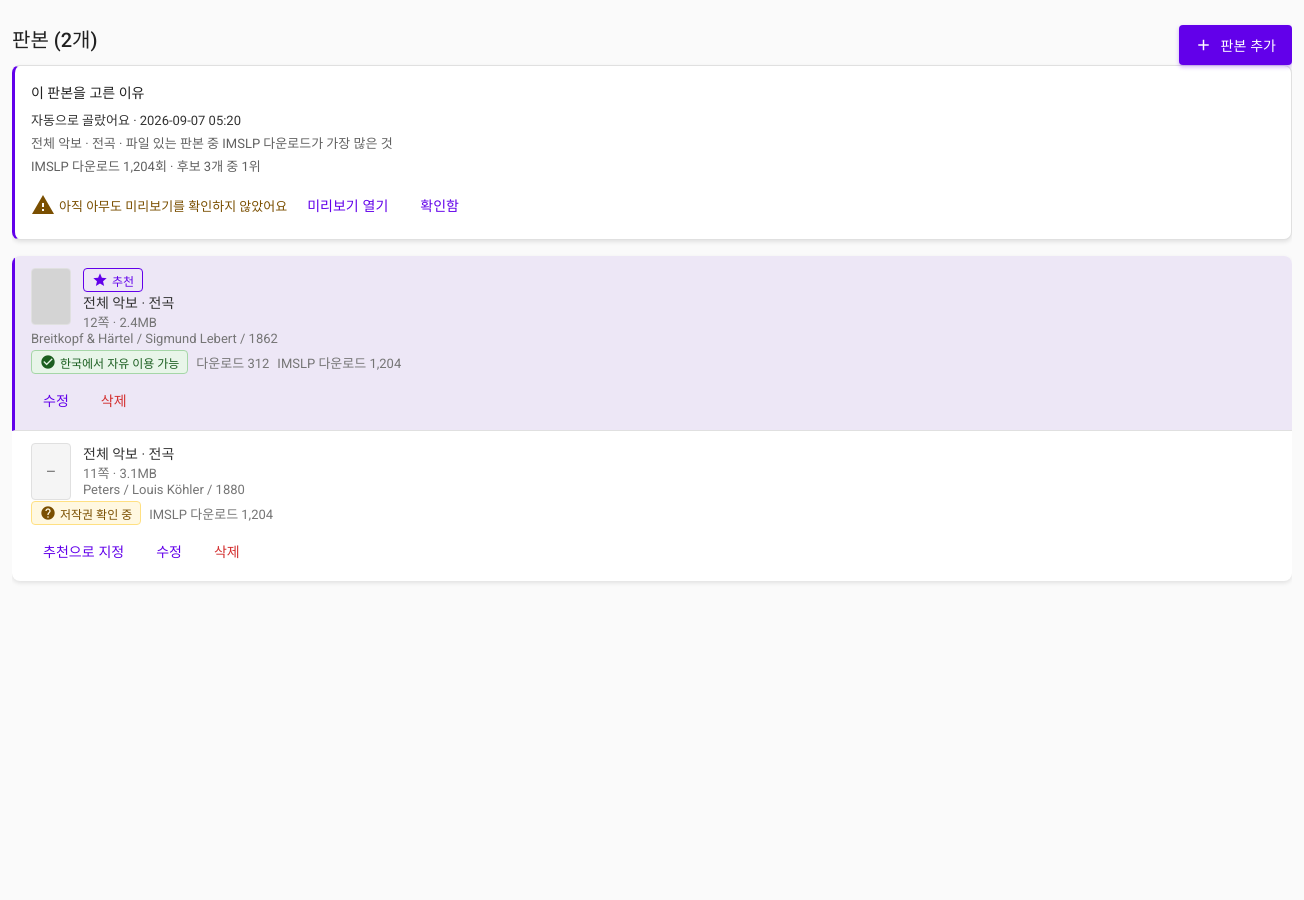
it: EditionListSection — 확인함은 이제 행이 아니라 A-1 상자 안에 있다 (02 §5-6-1, 화면정의 06 A-1) › 실패하면 상자 안에 안내가 뜬다
Click the button "확인함".
click(440, 205)  # box [408,187,471,223]
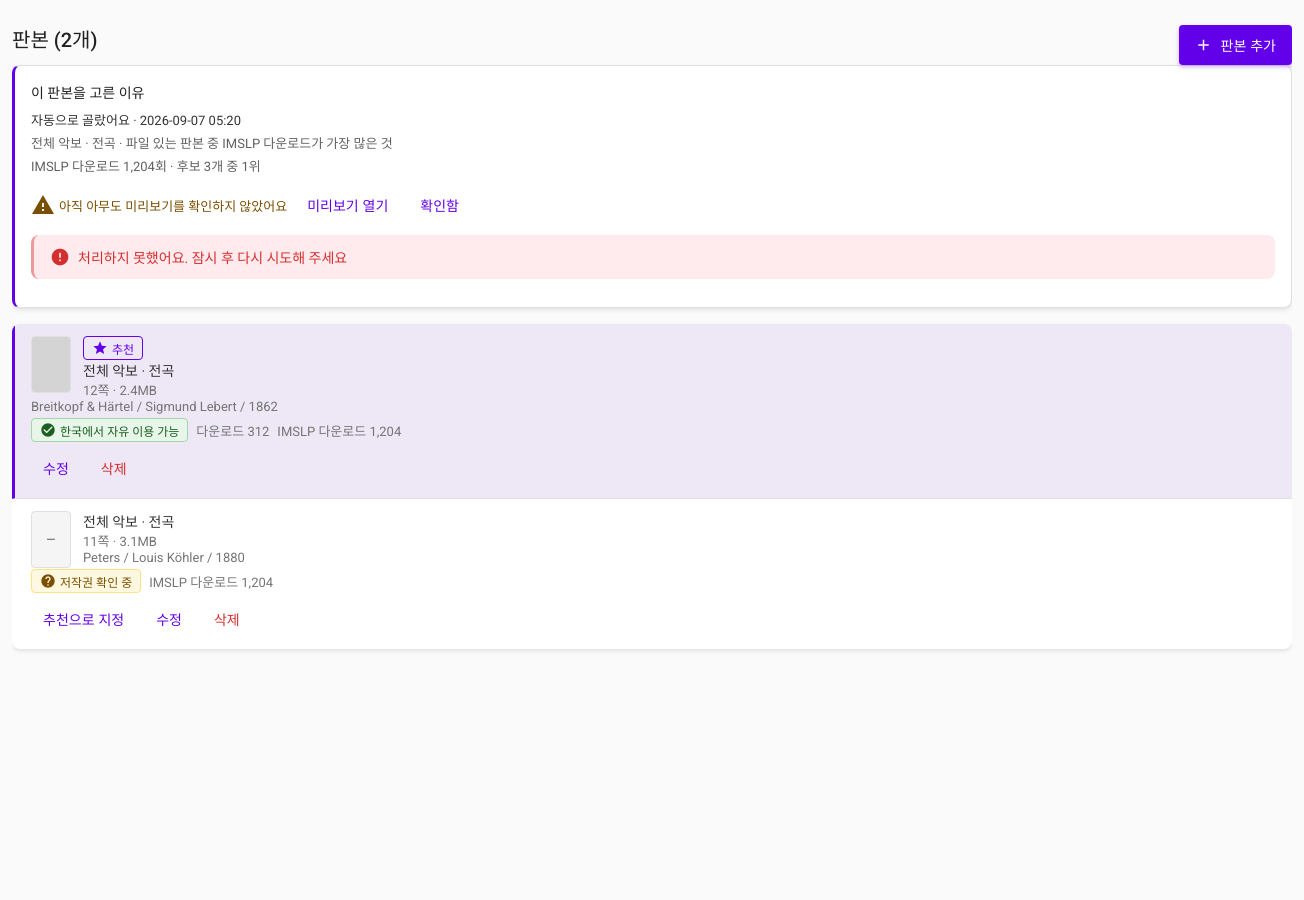
Now the text "처리하지 못했어요" is shown, box [78,250,347,266]
